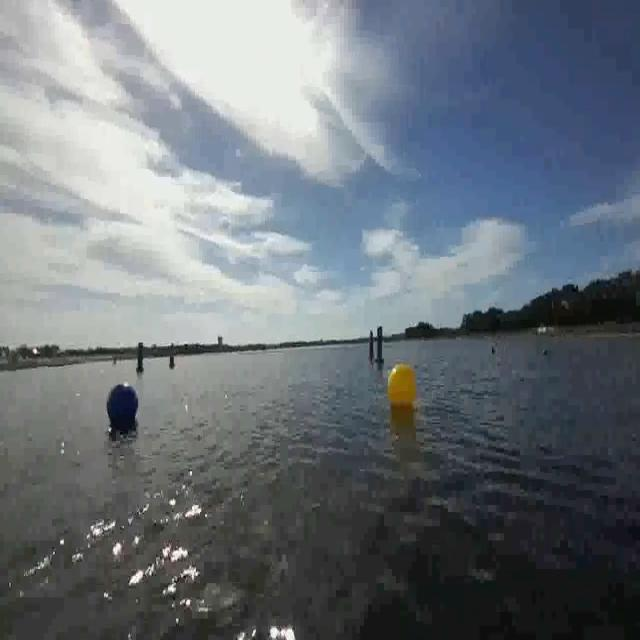blue-buoy: (109, 384, 139, 426)
green-column-buoy: (376, 327, 386, 365), (136, 342, 145, 372)
red-column-buoy: (366, 332, 375, 364), (167, 339, 175, 369)
yellow-buoy: (386, 362, 416, 408)
